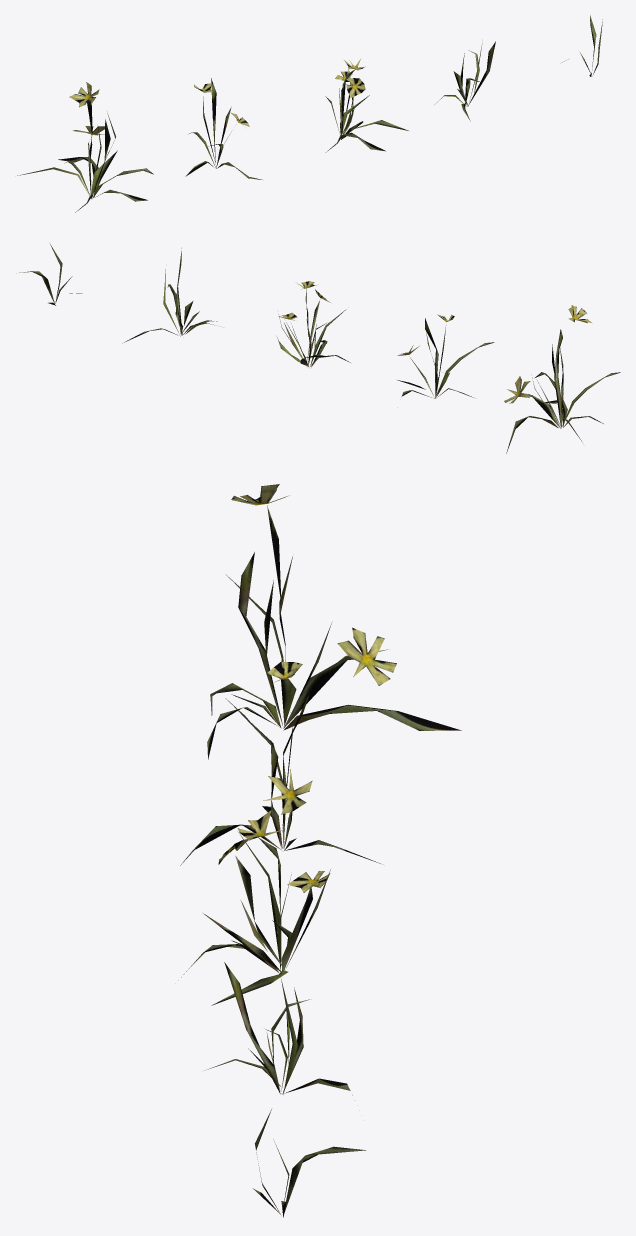
File: flower_empodium.glb
3 views of the same model, one above another, from view 1: azimuth 30°, elevation 25°; view 2: azimuth 150°, elevation 25°; view 3: azimuth 270°, elevation 25° (orthographic). The views are drawn at different scales.
Parts seen in each view (by area): view 1: flower_empodium_a_LOD0; view 2: flower_empodium_a_LOD0; view 3: flower_empodium_a_LOD0.
Part boxes in pixels (x1,y1,x2,y2): flower_empodium_a_LOD0: (17, 15, 602, 212); flower_empodium_a_LOD0: (16, 244, 620, 453); flower_empodium_a_LOD0: (178, 484, 461, 1217).
Size of the model in its own units: 1.32 by 0.262 by 0.2837.
1 material, 1 textured.
